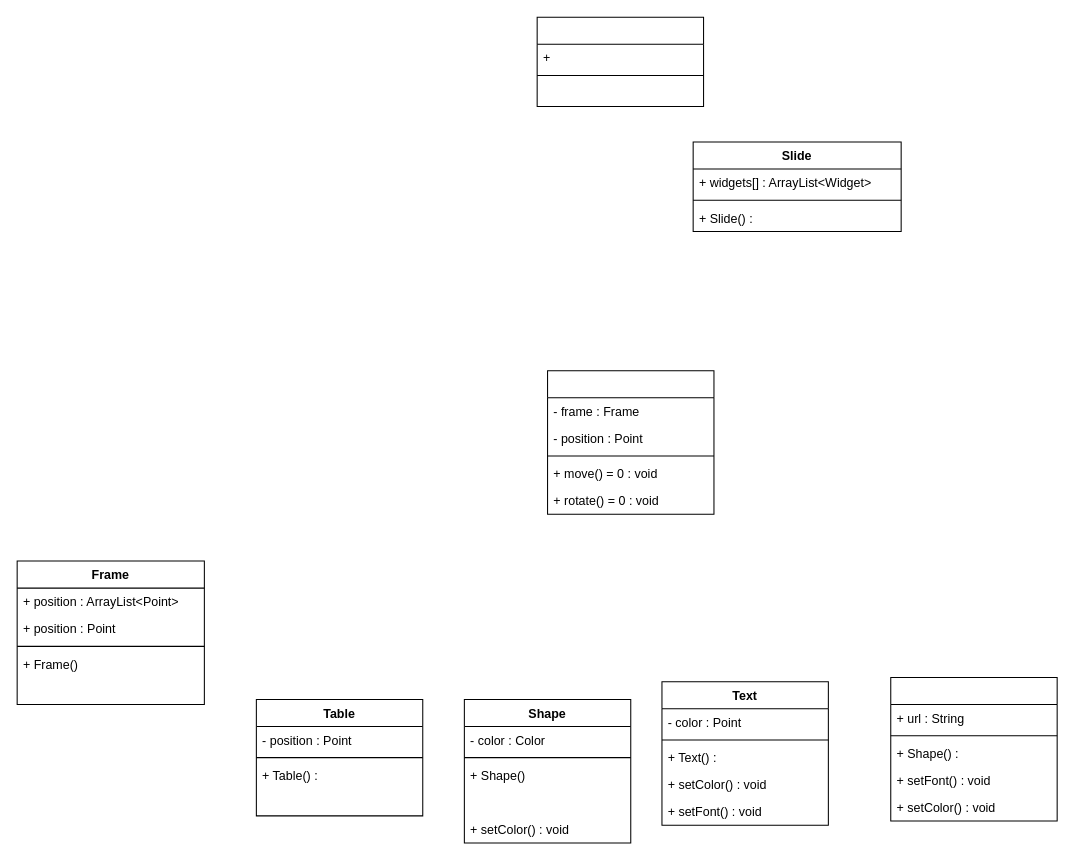
The diagram is 1074 pixels wide and 860 high, and some of its shapes have lost their labels. Each missing label, with the box of its shape:
Media: (890, 677, 1057, 821)
MyPreziSoSexy: (536, 16, 704, 107)
Widget: (547, 370, 714, 514)
